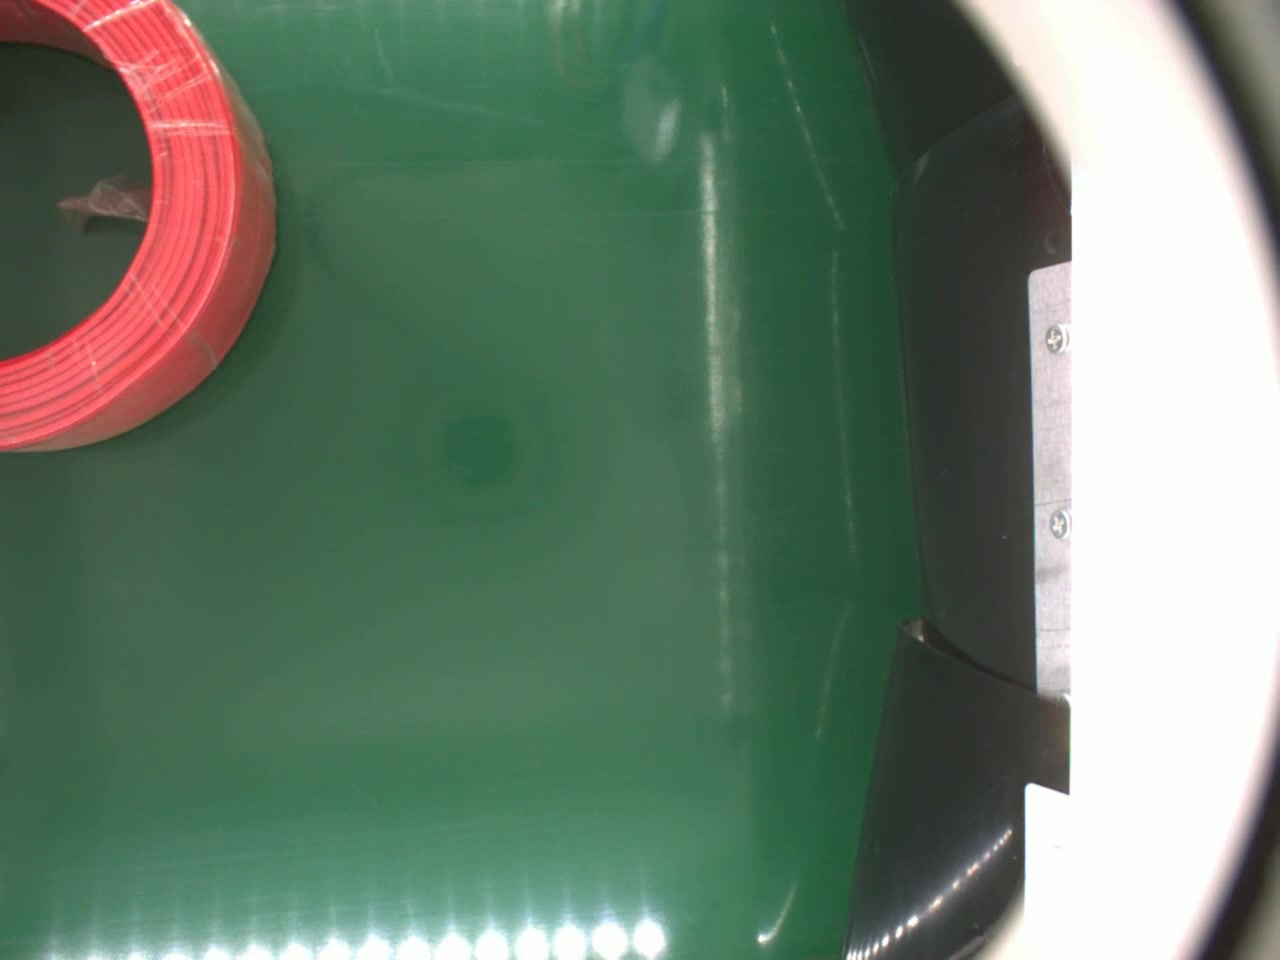red: (0, 1, 281, 458)
